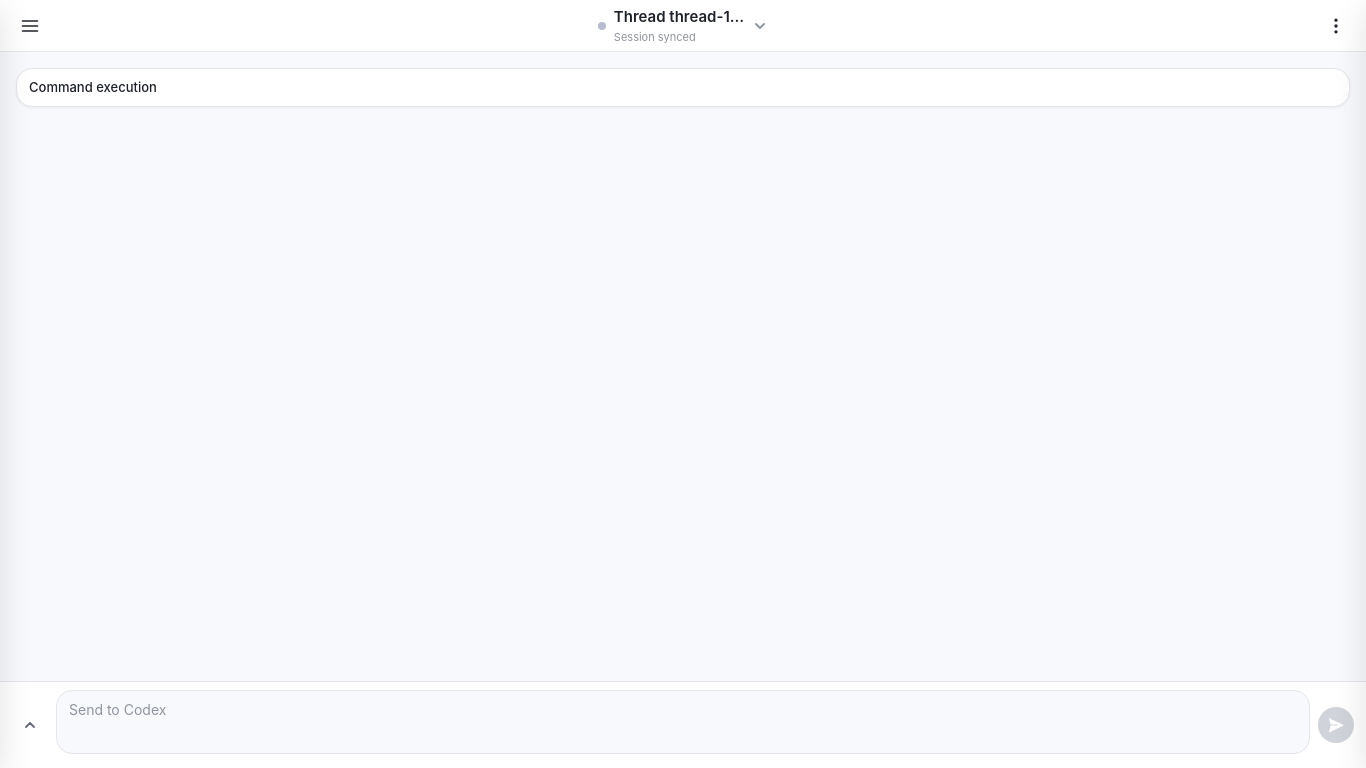
it: ChatTranscript markdown integration › renders lazily loaded large-item details as literal text instead of markdown
The image size is (1366, 768).
Click the heading "Command execution".
click(93, 87)  # box [29,79,157,95]
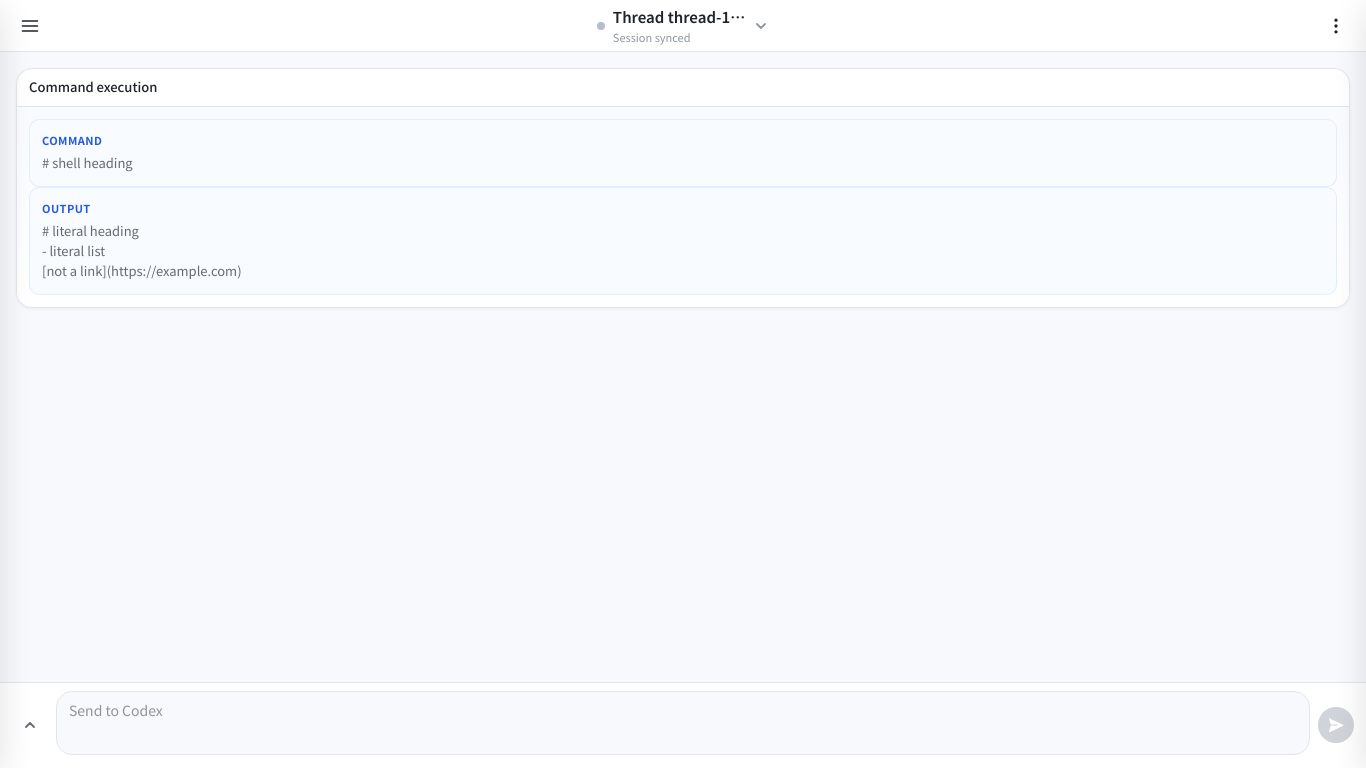
Now the text "# shell heading" is shown, box [42,153,133,172]
